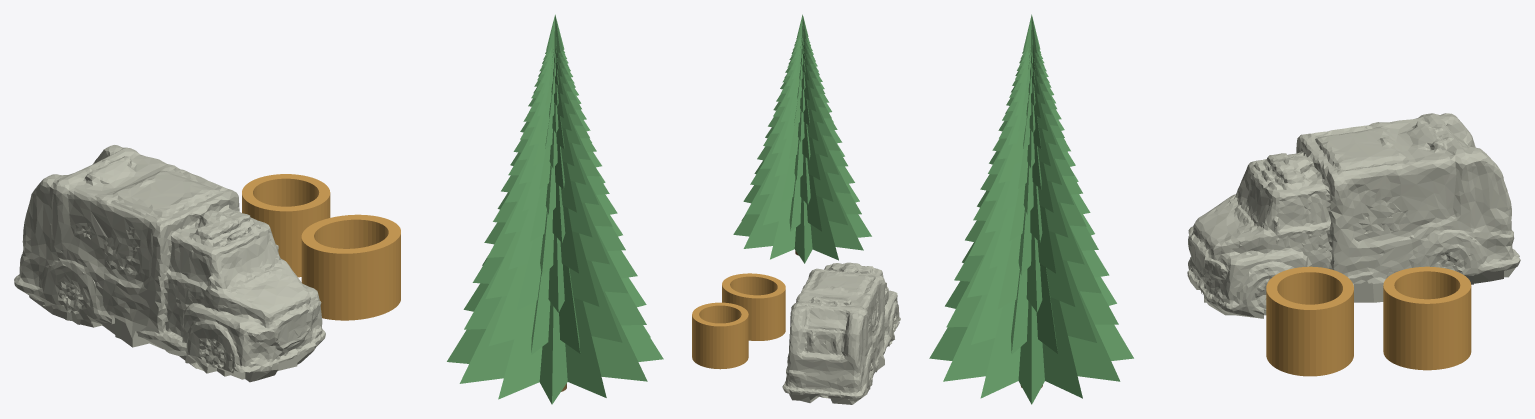
File: tinker_truck.glb
The picture shows the model from 3 angles, left to right: view 1: azimuth 30°, elevation 25°; view 2: azimuth 150°, elevation 25°; view 3: azimuth 270°, elevation 25°; orthographic projection. The views are drawn at different scales.
Parts seen in each view (by area): view 1: Mesh_Mesh_head_geo.001_lambert2SG.001; view 2: Mesh_Mesh_head_geo.001_lambert2SG.001; view 3: Mesh_Mesh_head_geo.001_lambert2SG.001.
Boxes of the visible parts, x1=… form: Mesh_Mesh_head_geo.001_lambert2SG.001: x1=14, y1=14, x2=663, y2=404; Mesh_Mesh_head_geo.001_lambert2SG.001: x1=692, y1=14, x2=900, y2=404; Mesh_Mesh_head_geo.001_lambert2SG.001: x1=929, y1=14, x2=1520, y2=404.
Size of the model in its own units: 0.0323 by 0.028 by 0.0404.
